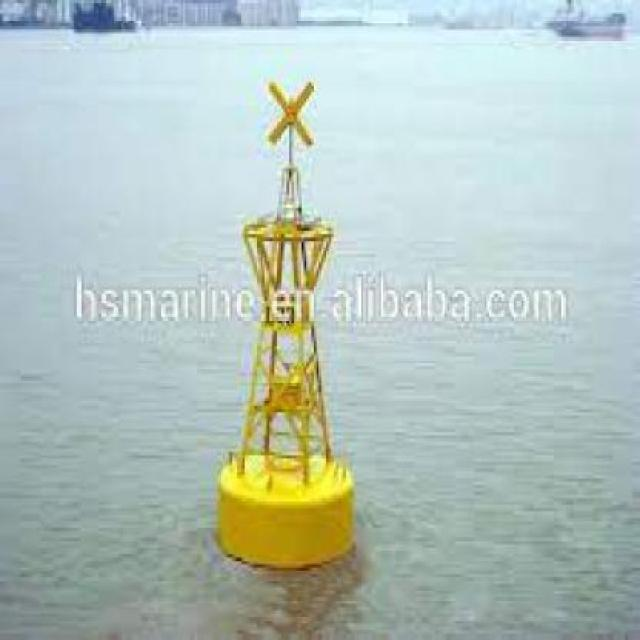buoy: (209, 66, 369, 579)
